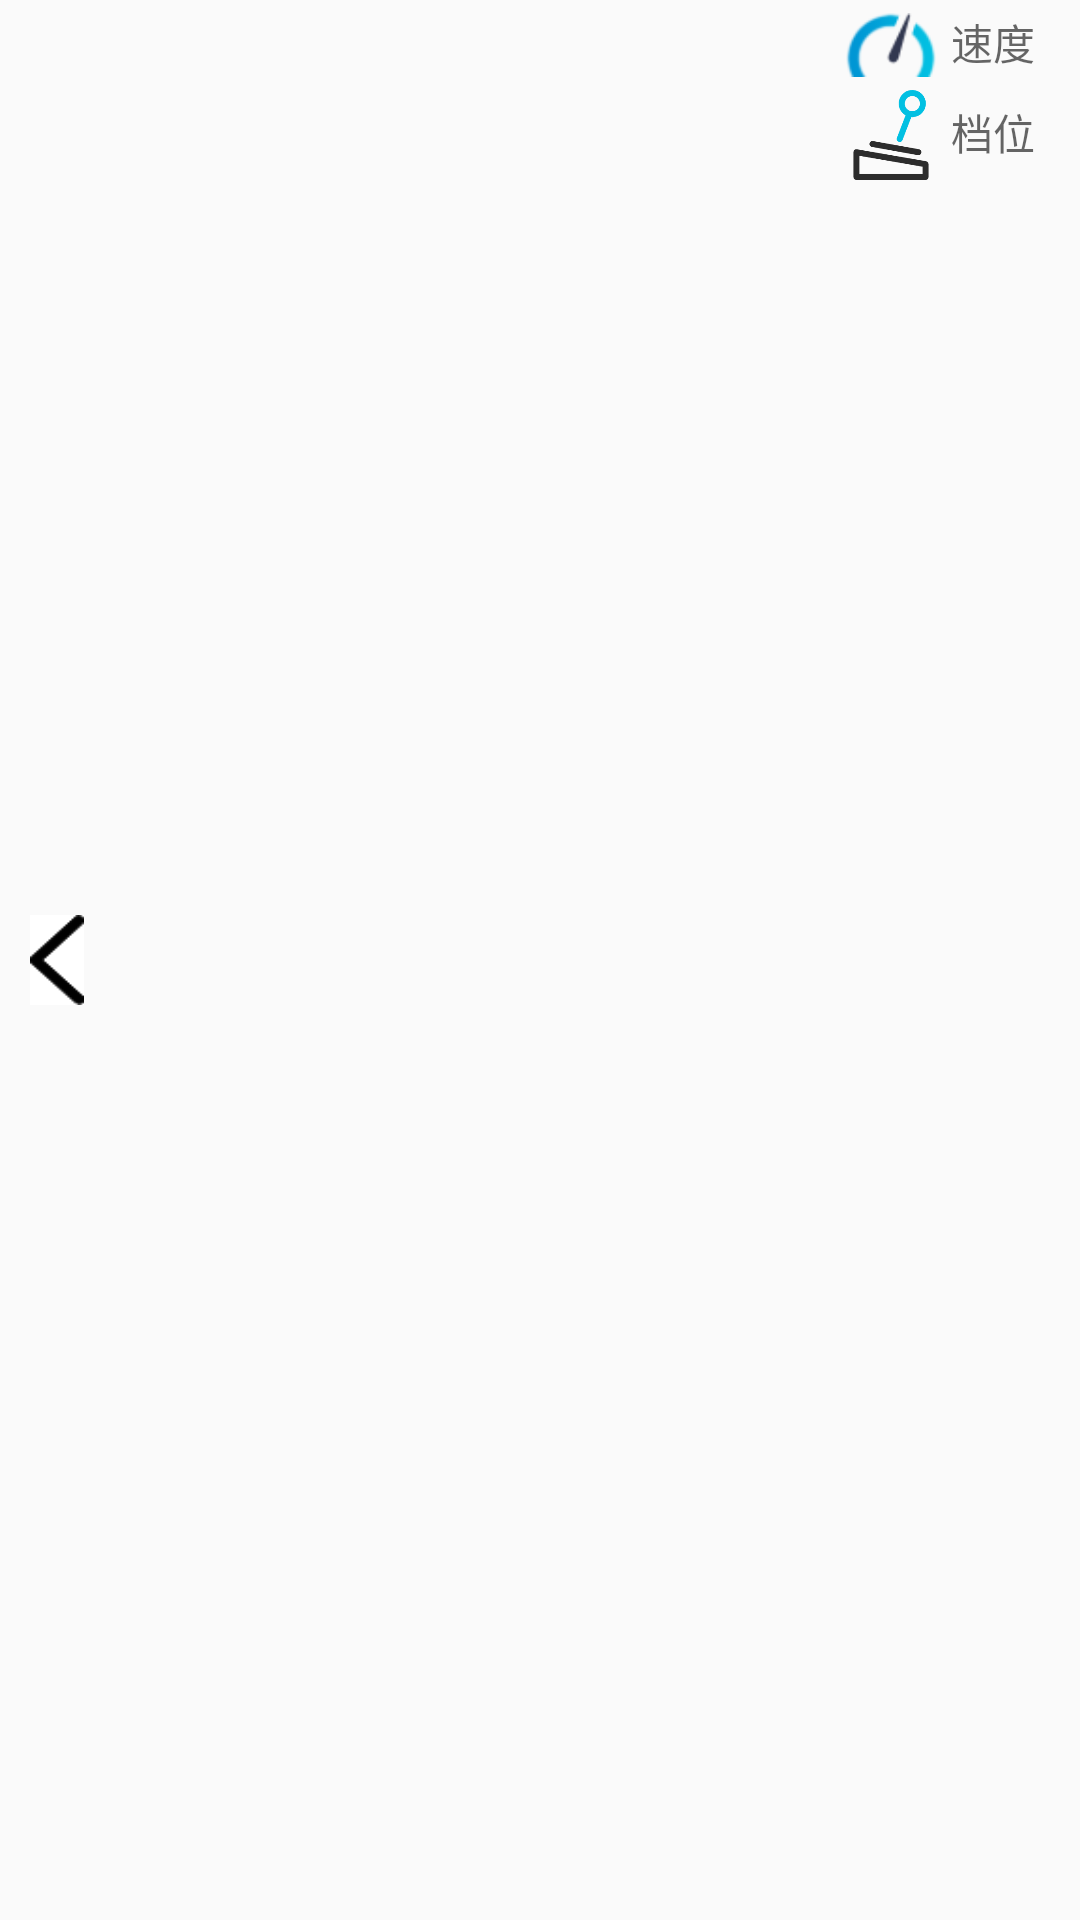

Where to tap for icons on this 1080w x 1920h app screen, as point (x, y):
return bar: point (57, 960)
